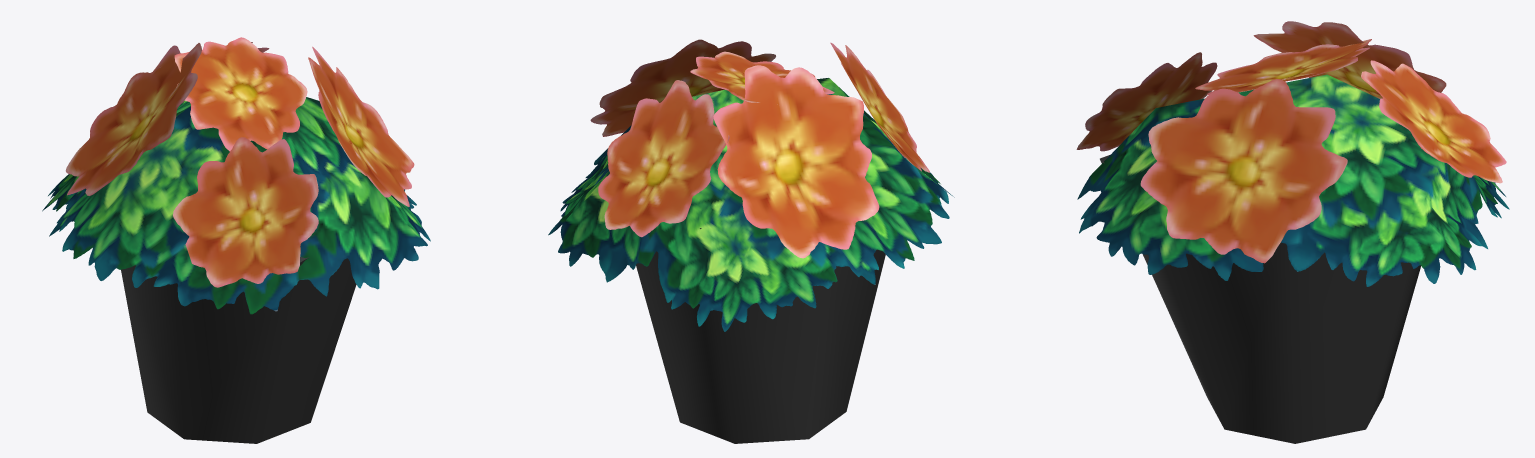
File: SM_PROP_PLANT_pot_v2_02.FBX
3 views of the same model, side by side, from view 1: azimuth 30°, elevation 25°; view 2: azimuth 150°, elevation 25°; view 3: azimuth 270°, elevation 25° (orthographic). The views are drawn at different scales.
Parts seen in each view (by area): view 1: SM_PROP_PLANT_pot_v2_02; view 2: SM_PROP_PLANT_pot_v2_02; view 3: SM_PROP_PLANT_pot_v2_02.
Boxes of the visible parts, <box> form: SM_PROP_PLANT_pot_v2_02: <box>42,37,430,443</box>; SM_PROP_PLANT_pot_v2_02: <box>548,39,954,443</box>; SM_PROP_PLANT_pot_v2_02: <box>1076,21,1509,443</box>.
Bounding box in the file's own units: 76.67 × 78.79 × 70.45.
